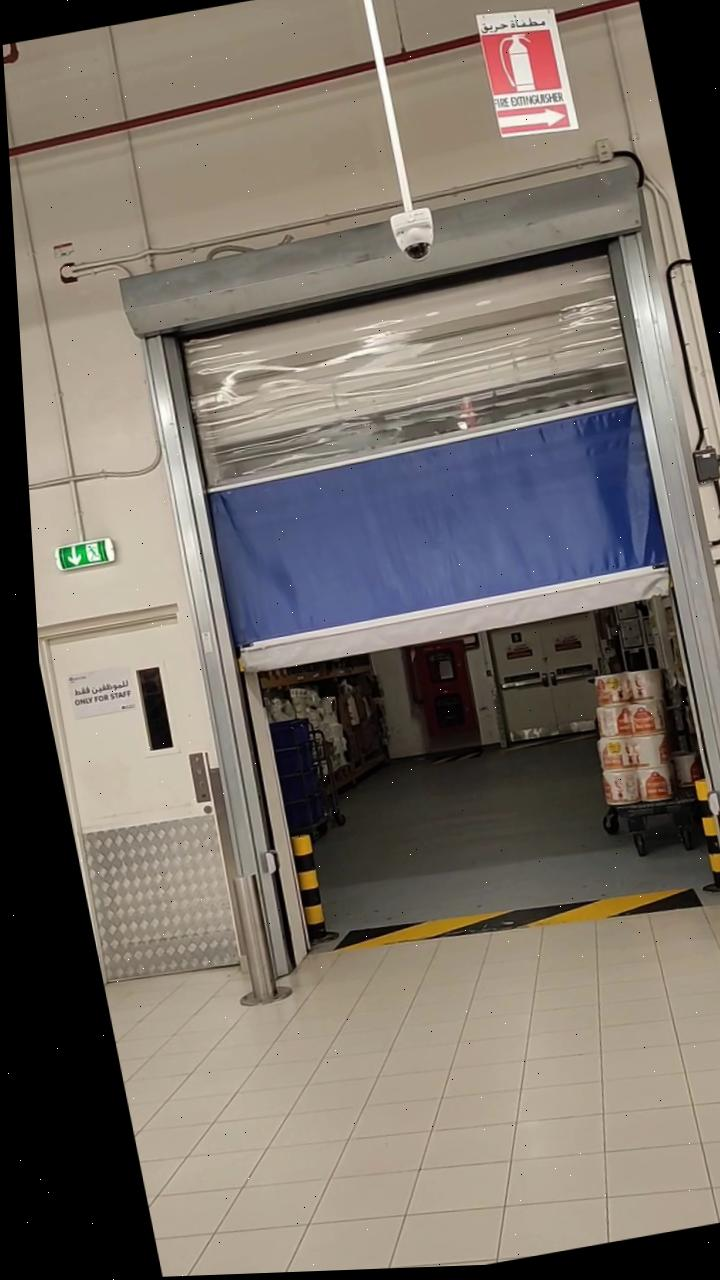Strip: (317, 862, 698, 975)
